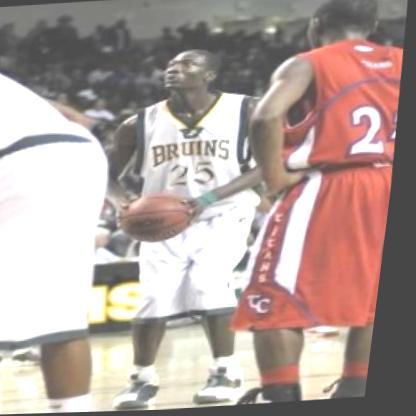basketball: (120, 193, 203, 245)
